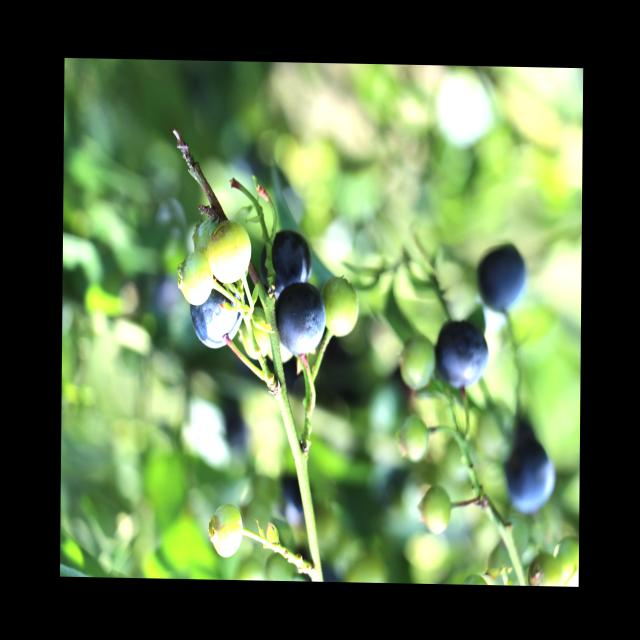blueberry: (501, 438, 557, 514), (433, 319, 490, 392), (271, 281, 327, 355), (474, 242, 528, 318), (188, 280, 244, 350), (258, 229, 314, 296)
blueberry-unripe: (208, 220, 252, 290), (320, 278, 360, 336), (399, 334, 438, 392), (205, 501, 242, 557), (242, 302, 272, 366), (420, 480, 452, 536), (396, 414, 430, 466), (179, 253, 213, 305)
